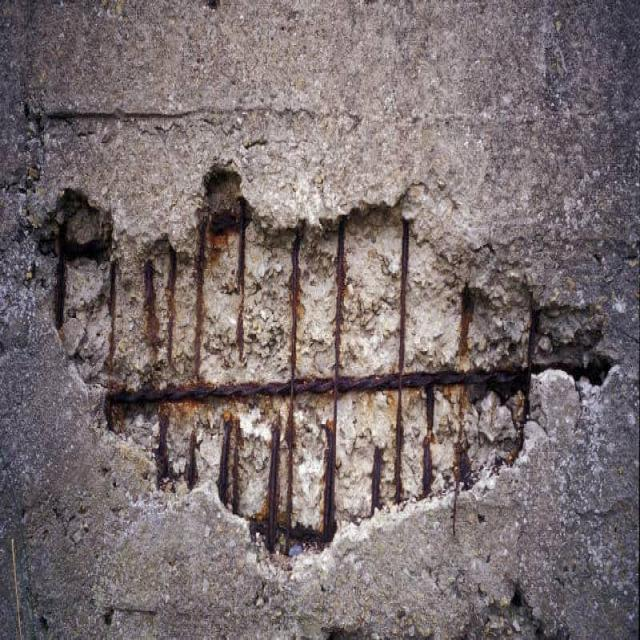Spalling: (24, 145, 630, 580)
